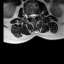CCS_normal: (32, 11, 34, 21)
LFS_normal: (37, 10, 39, 18)
LLS_normal: (34, 11, 37, 19)
RFS_normal: (27, 11, 29, 20)
RLS_normal: (29, 11, 32, 20)
